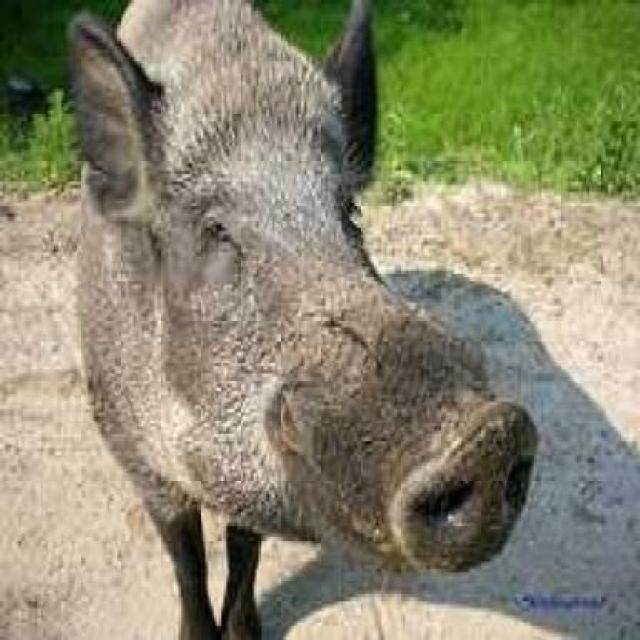pig: (0, 0, 558, 638)
